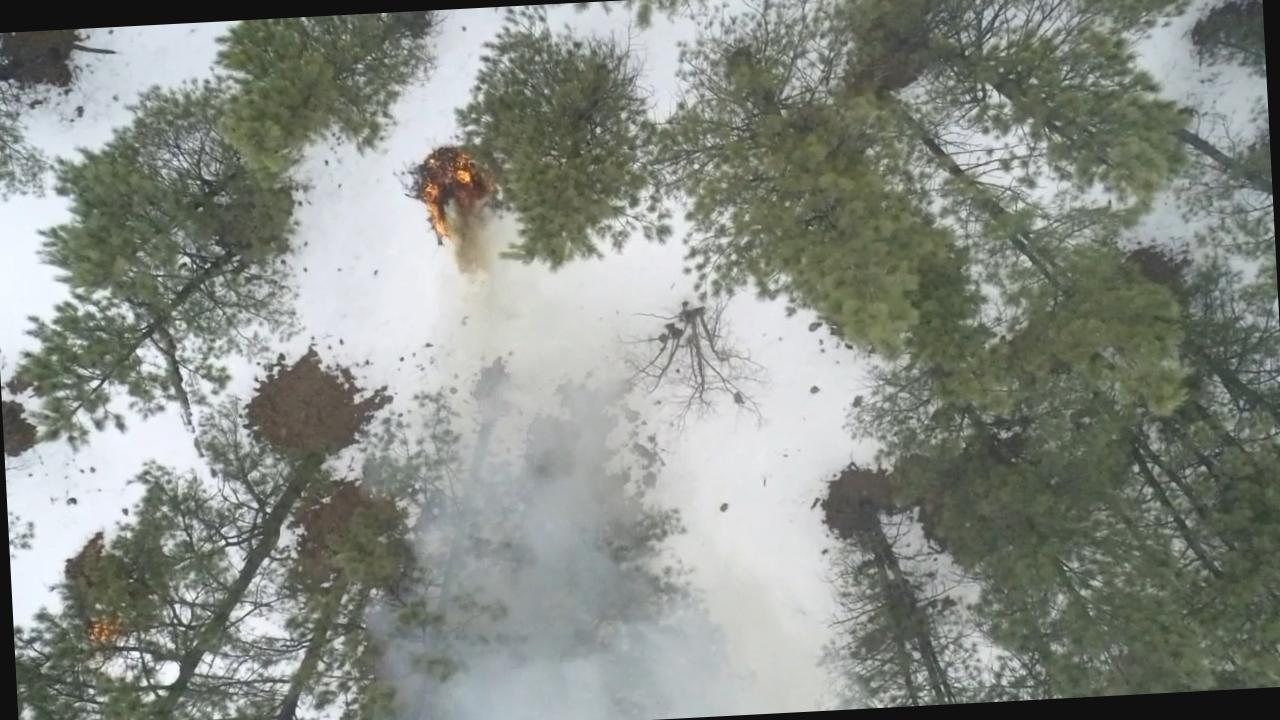fire: (418, 149, 485, 239)
smoke: (364, 461, 706, 720)
